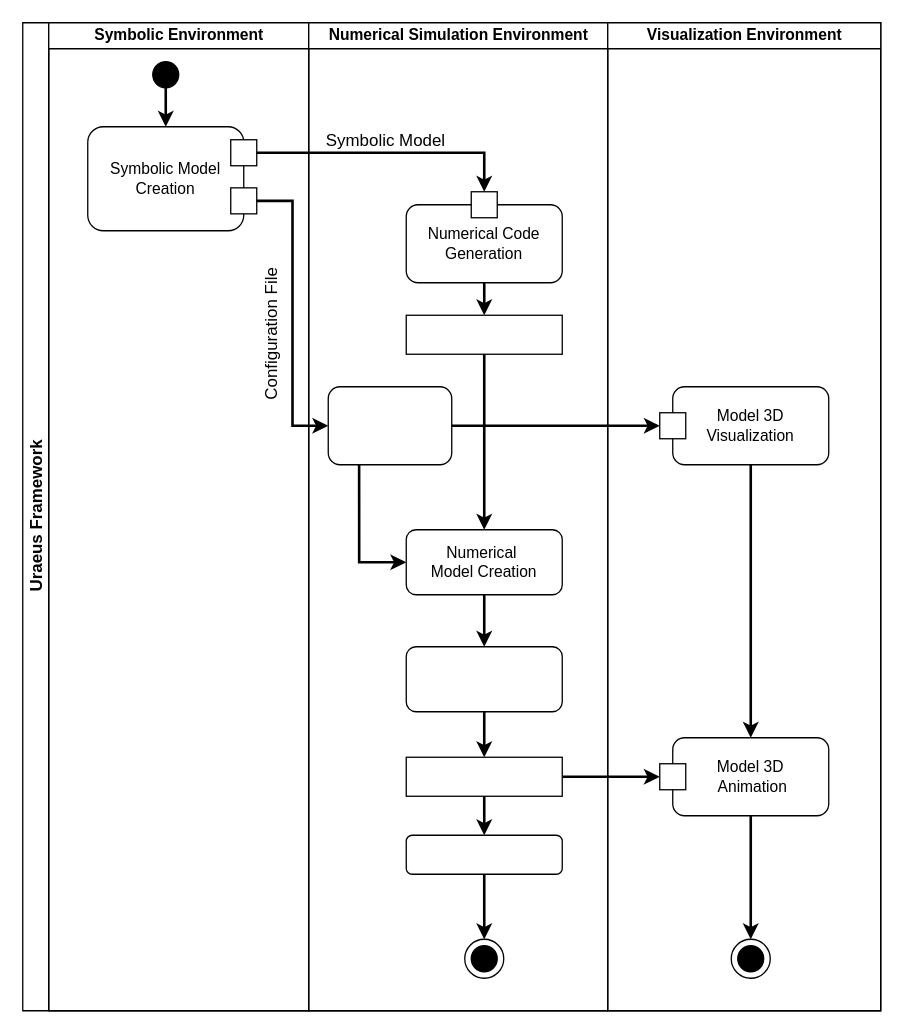
This 903x1034 diagram has some shape labels left out. Each missing label, with the centre of its shape:
Configuration Assignment: point 389,425
Numerical Simulations: point 483,678
Post-Processing: point 483,854
Results: point 483,776
Source Files: point 483,334
